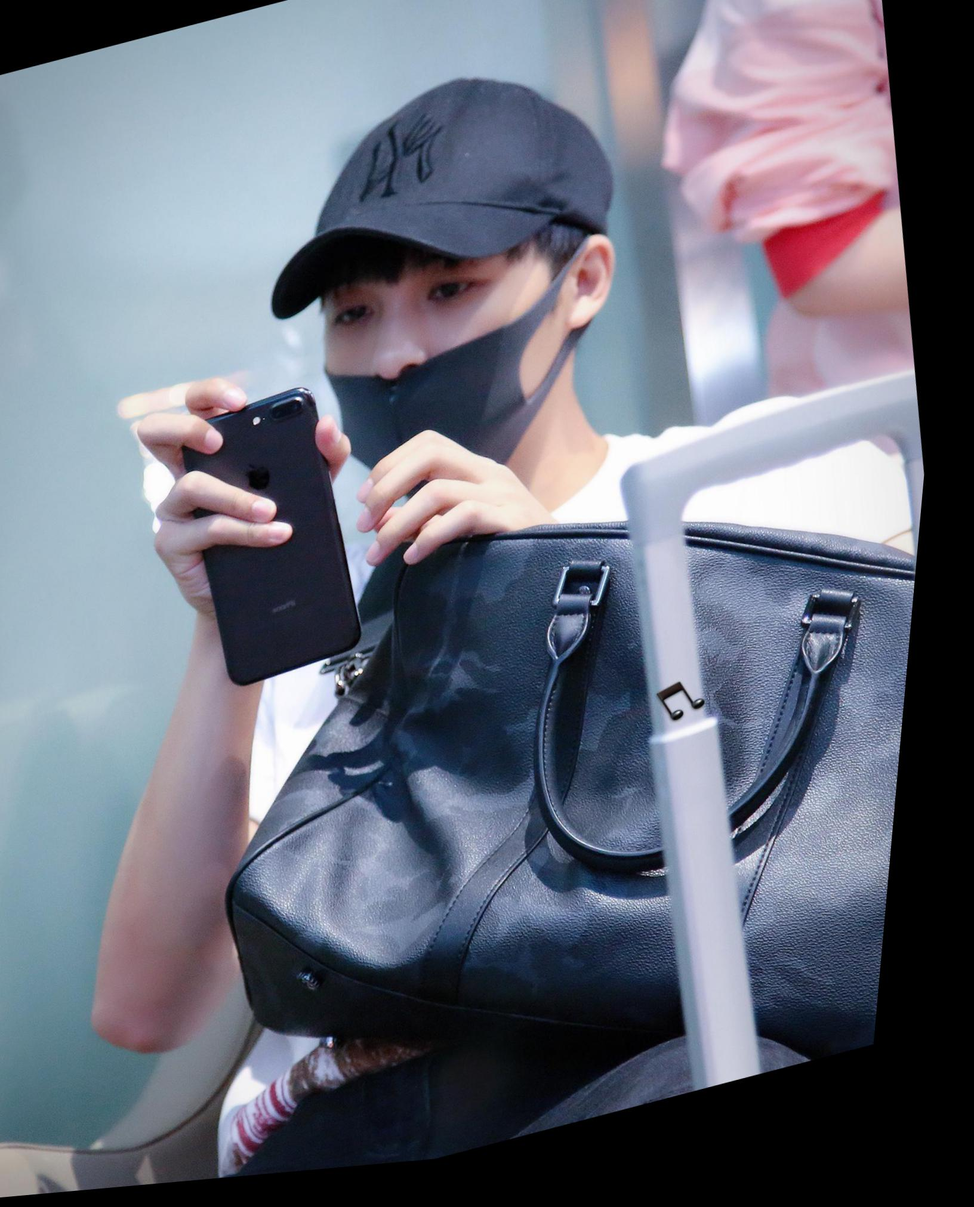WRONG: (303, 199, 603, 531)
